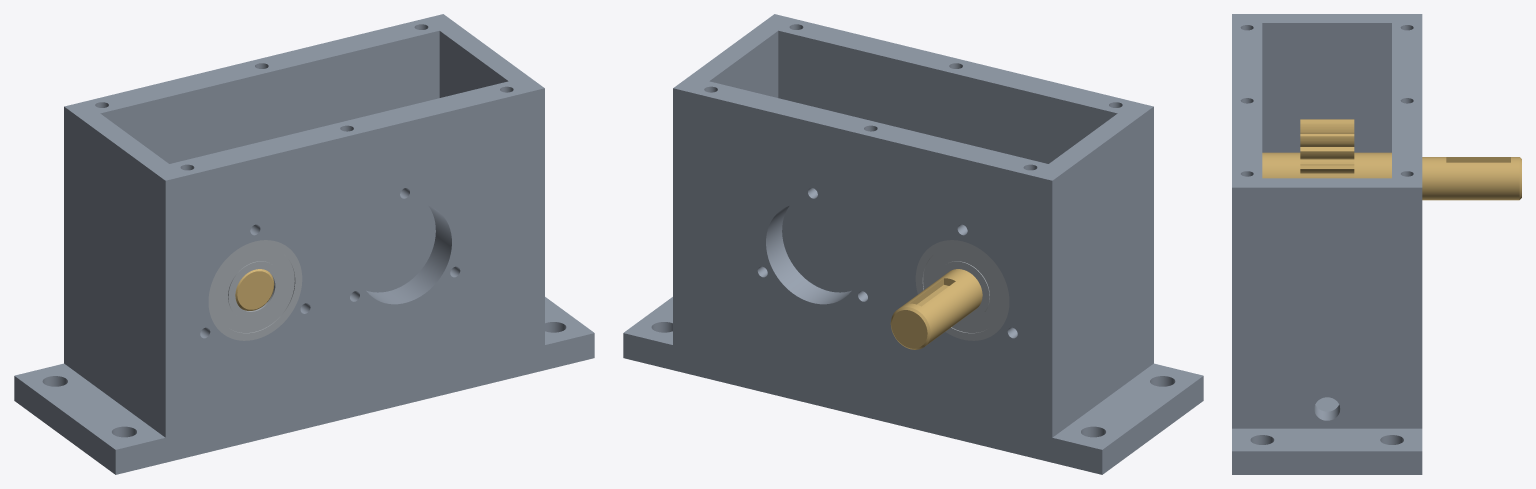
File: step_25.glb
3 views of the same model, side by side, from view 1: azimuth 30°, elevation 25°; view 2: azimuth 150°, elevation 25°; view 3: azimuth 270°, elevation 25° (orthographic). The views are drawn at different scales.
Parts seen in each view (by area): view 1: part__gearbox housing, part__bearing B, part__input pinion shaft; view 2: part__gearbox housing, part__bearing A, part__input pinion shaft; view 3: part__gearbox housing, part__input pinion shaft.
Part boxes in pixels (x1=…): part__gearbox housing: x1=14, y1=14, x2=594, y2=474; part__bearing B: x1=208, y1=240, x2=302, y2=340; part__input pinion shaft: x1=235, y1=269, x2=274, y2=310; part__gearbox housing: x1=623, y1=14, x2=1203, y2=474; part__bearing A: x1=915, y1=240, x2=1009, y2=340; part__input pinion shaft: x1=890, y1=269, x2=982, y2=349; part__gearbox housing: x1=1232, y1=14, x2=1422, y2=474; part__input pinion shaft: x1=1262, y1=119, x2=1521, y2=200.
Size of the model in its own units: 240 by 135 by 134.
